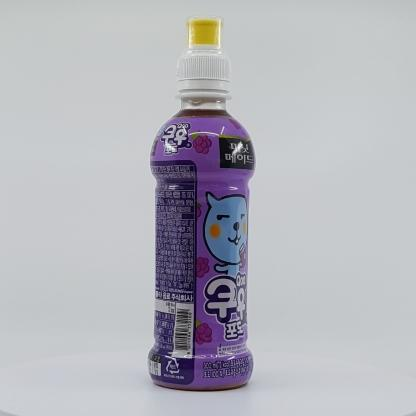------300ML: (147, 14, 255, 390)
